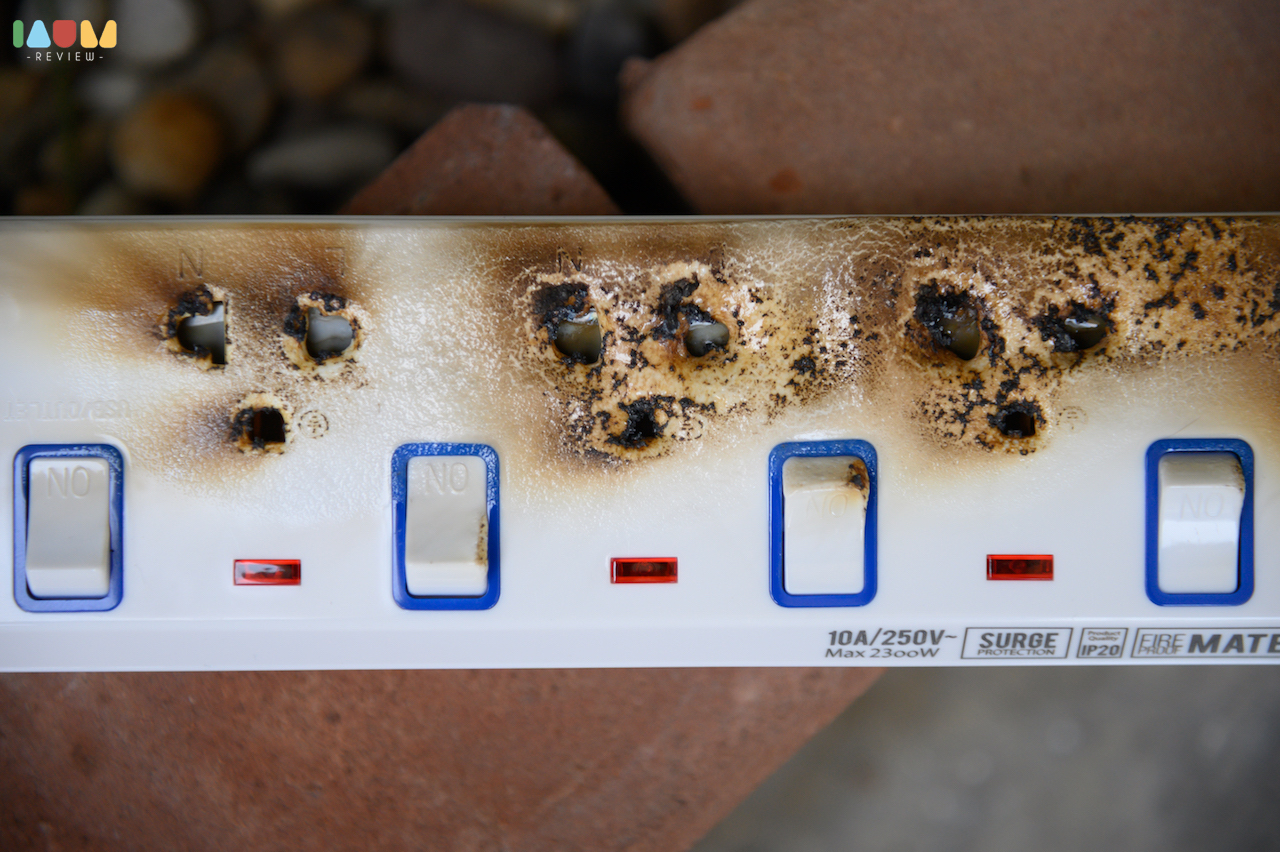Three_eye_plug: (1, 210, 1280, 672)
